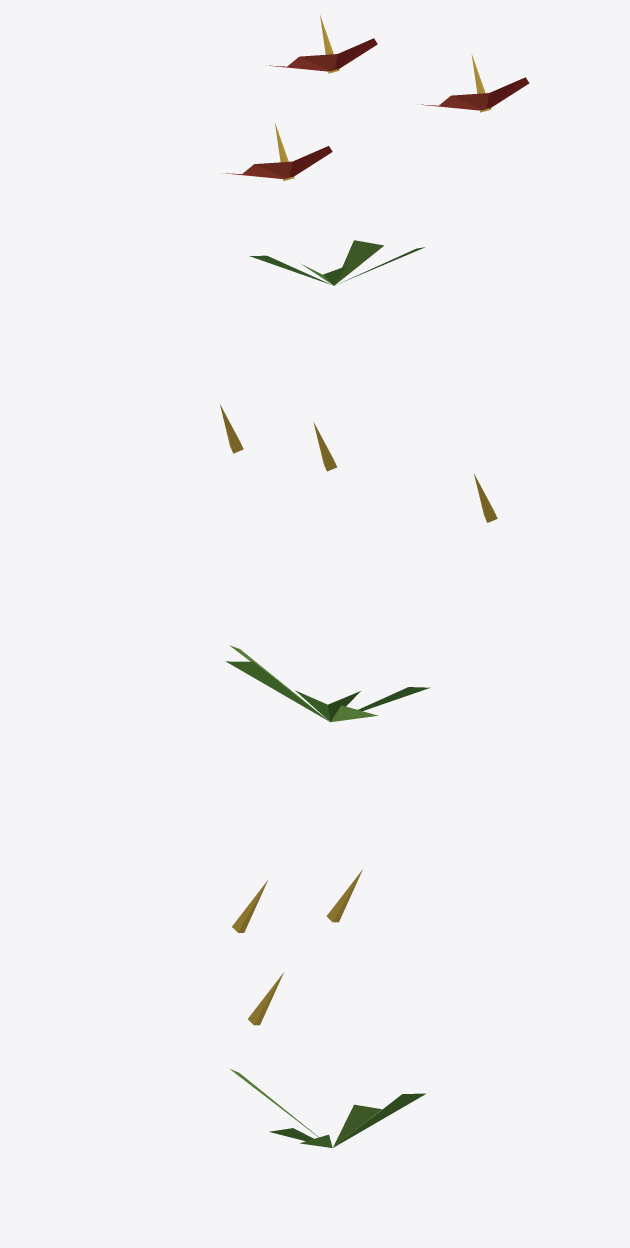
The model's file is cover-hibiscus.glb.
3 views of the same model, one above another, from view 1: azimuth 30°, elevation 25°; view 2: azimuth 150°, elevation 25°; view 3: azimuth 270°, elevation 25° (orthographic). The views are drawn at different scales.
Parts seen in each view (by area): view 1: cover-hibiscus; view 2: cover-hibiscus; view 3: cover-hibiscus.
Part boxes in pixels (x1=…): cover-hibiscus: x1=222, y1=15, x2=529, y2=285; cover-hibiscus: x1=220, y1=404, x2=497, y2=722; cover-hibiscus: x1=230, y1=869, x2=425, y2=1147.
Size of the model in its own units: 0.7492 by 0.3911 by 0.763.
